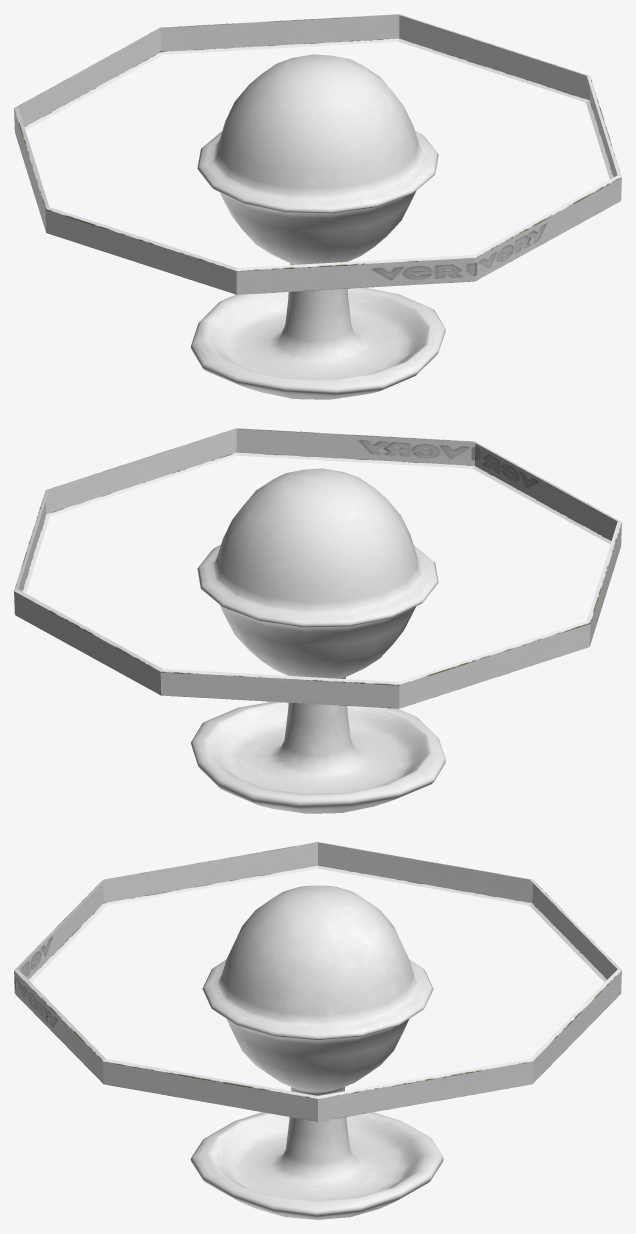
File: VERIVERY_03.glb
3 renders of one model, top to bottom at view 1: azimuth 30°, elevation 25°; view 2: azimuth 150°, elevation 25°; view 3: azimuth 270°, elevation 25°, orthographic. The views are drawn at different scales.
Bounding box in the file's own units: 0.2574 × 0.1345 × 0.2574.
Materials: 1 (1 with a texture image).
